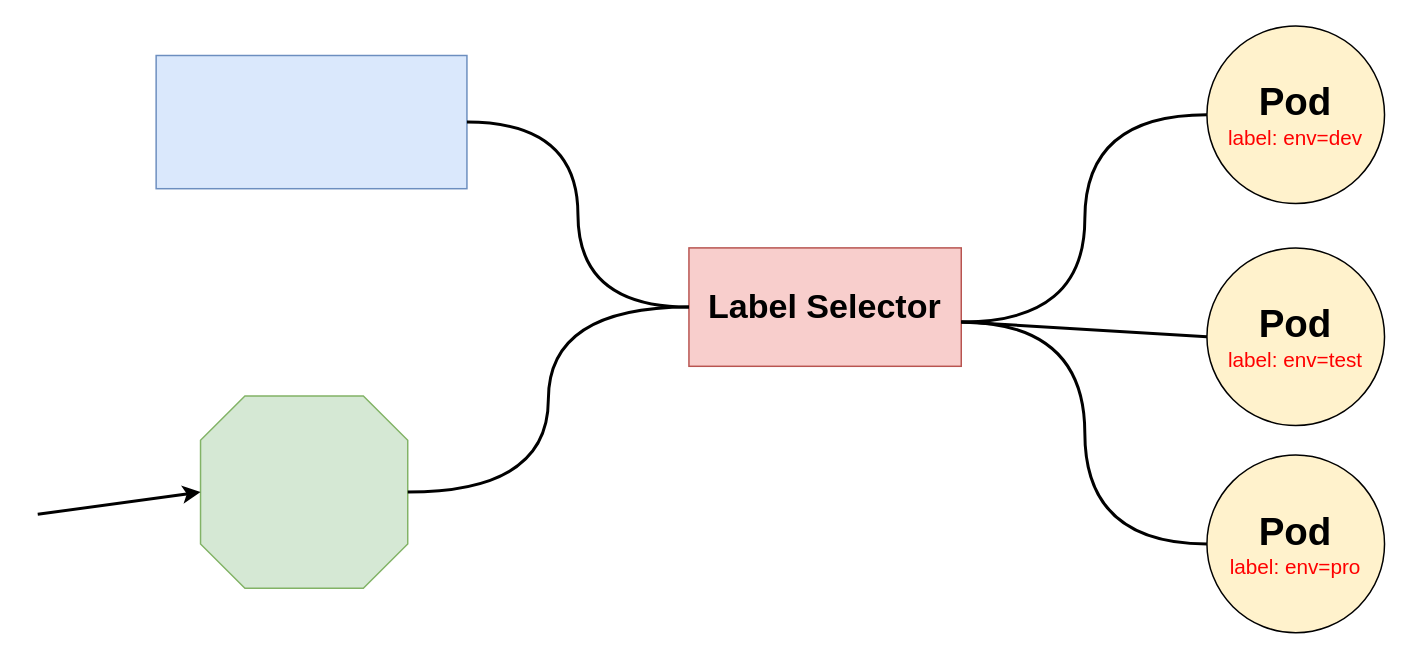
Image size: 1410x659. Some labels were removed from this diagram. Each missing label, with the centre of its shape:
deployment selector: env=dev: (x=311, y=121)
Service selector: env=dev: (x=303, y=491)
